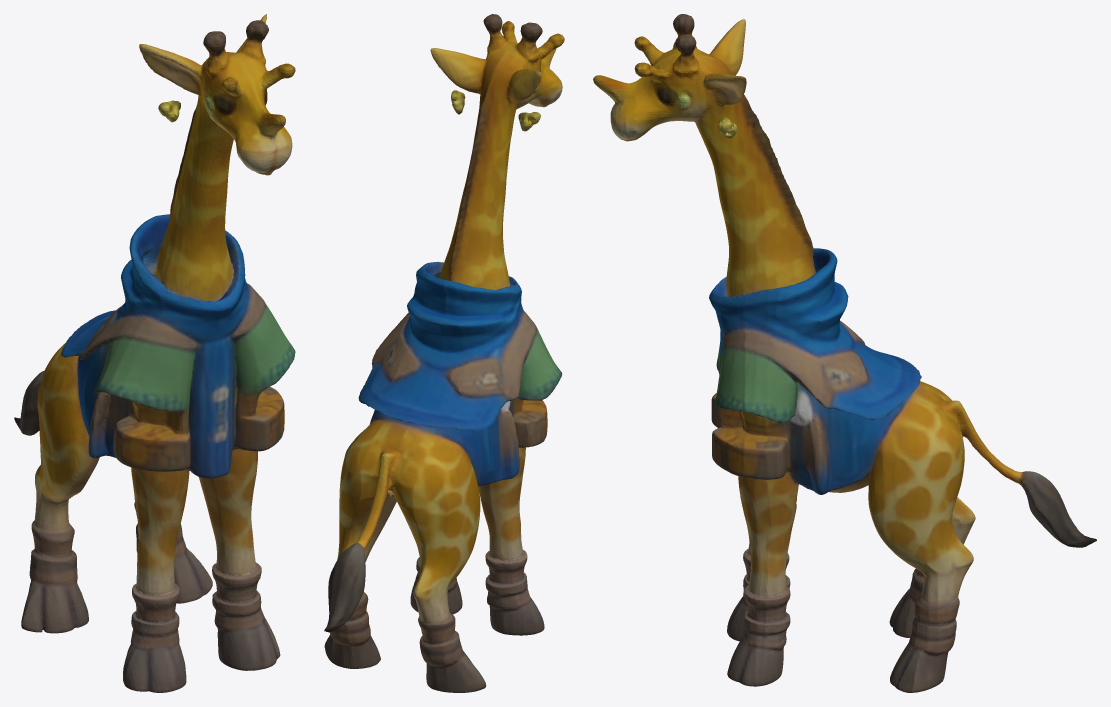
Rendered from mount_admin.glb.
3 renders of one model, left to right at view 1: azimuth 30°, elevation 25°; view 2: azimuth 150°, elevation 25°; view 3: azimuth 270°, elevation 25°, orthographic. The views are drawn at different scales.
Parts seen in each view (by area): view 1: world; view 2: world; view 3: world.
Boxes of the visible parts, x1,y1,x2,y2 form: world: [14, 14, 295, 692]; world: [324, 14, 564, 692]; world: [593, 14, 1096, 692].
Bounding box in the file's own units: 0.3004 × 0.9994 × 0.7294.
